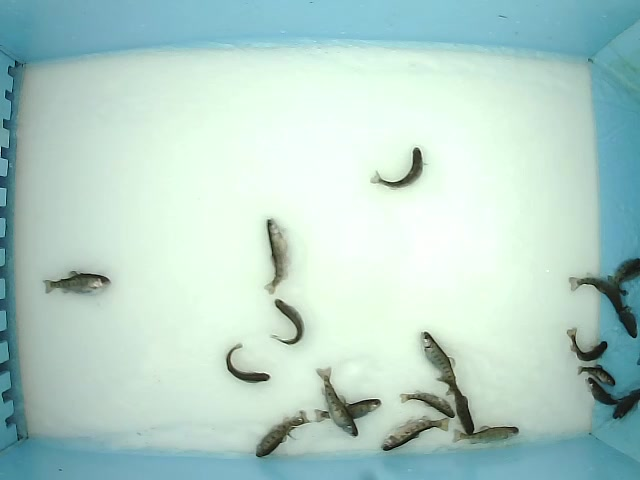fish: (315, 366, 359, 438), (369, 144, 429, 195), (38, 263, 113, 302), (255, 408, 313, 458), (421, 329, 463, 396), (380, 417, 450, 452), (567, 274, 624, 315), (264, 216, 292, 296), (225, 340, 271, 384), (444, 374, 474, 436), (313, 397, 381, 424), (269, 298, 306, 346), (400, 388, 455, 419), (566, 327, 608, 362), (452, 425, 521, 444), (585, 377, 624, 406), (577, 363, 617, 387)
